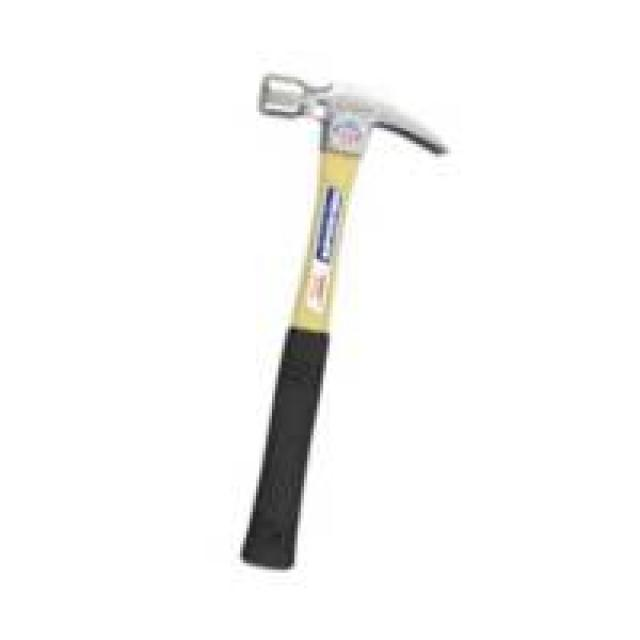hammer: (192, 62, 462, 576)
